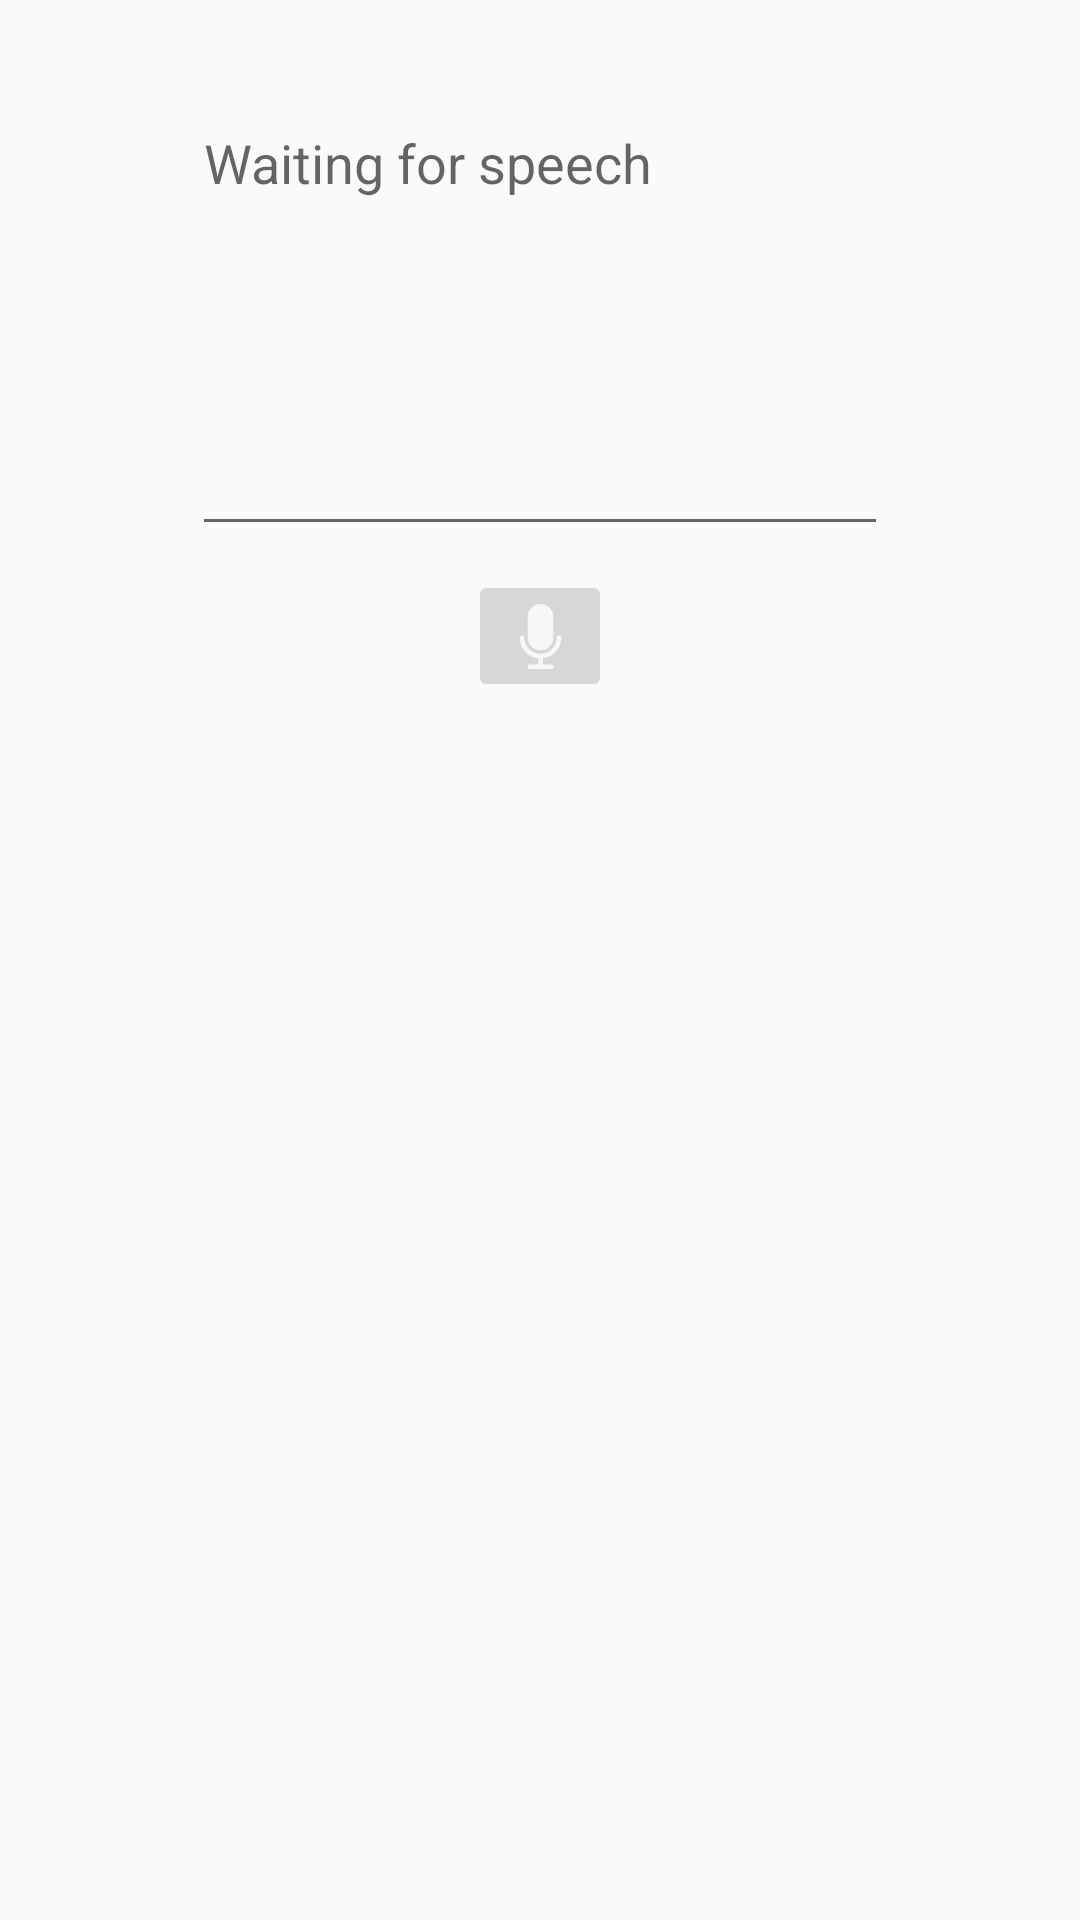

Screen size 1080 × 1920. Icon name, then its box in pixels as (x1, y1, x2, y2):
microphone: (480, 588, 600, 684)
